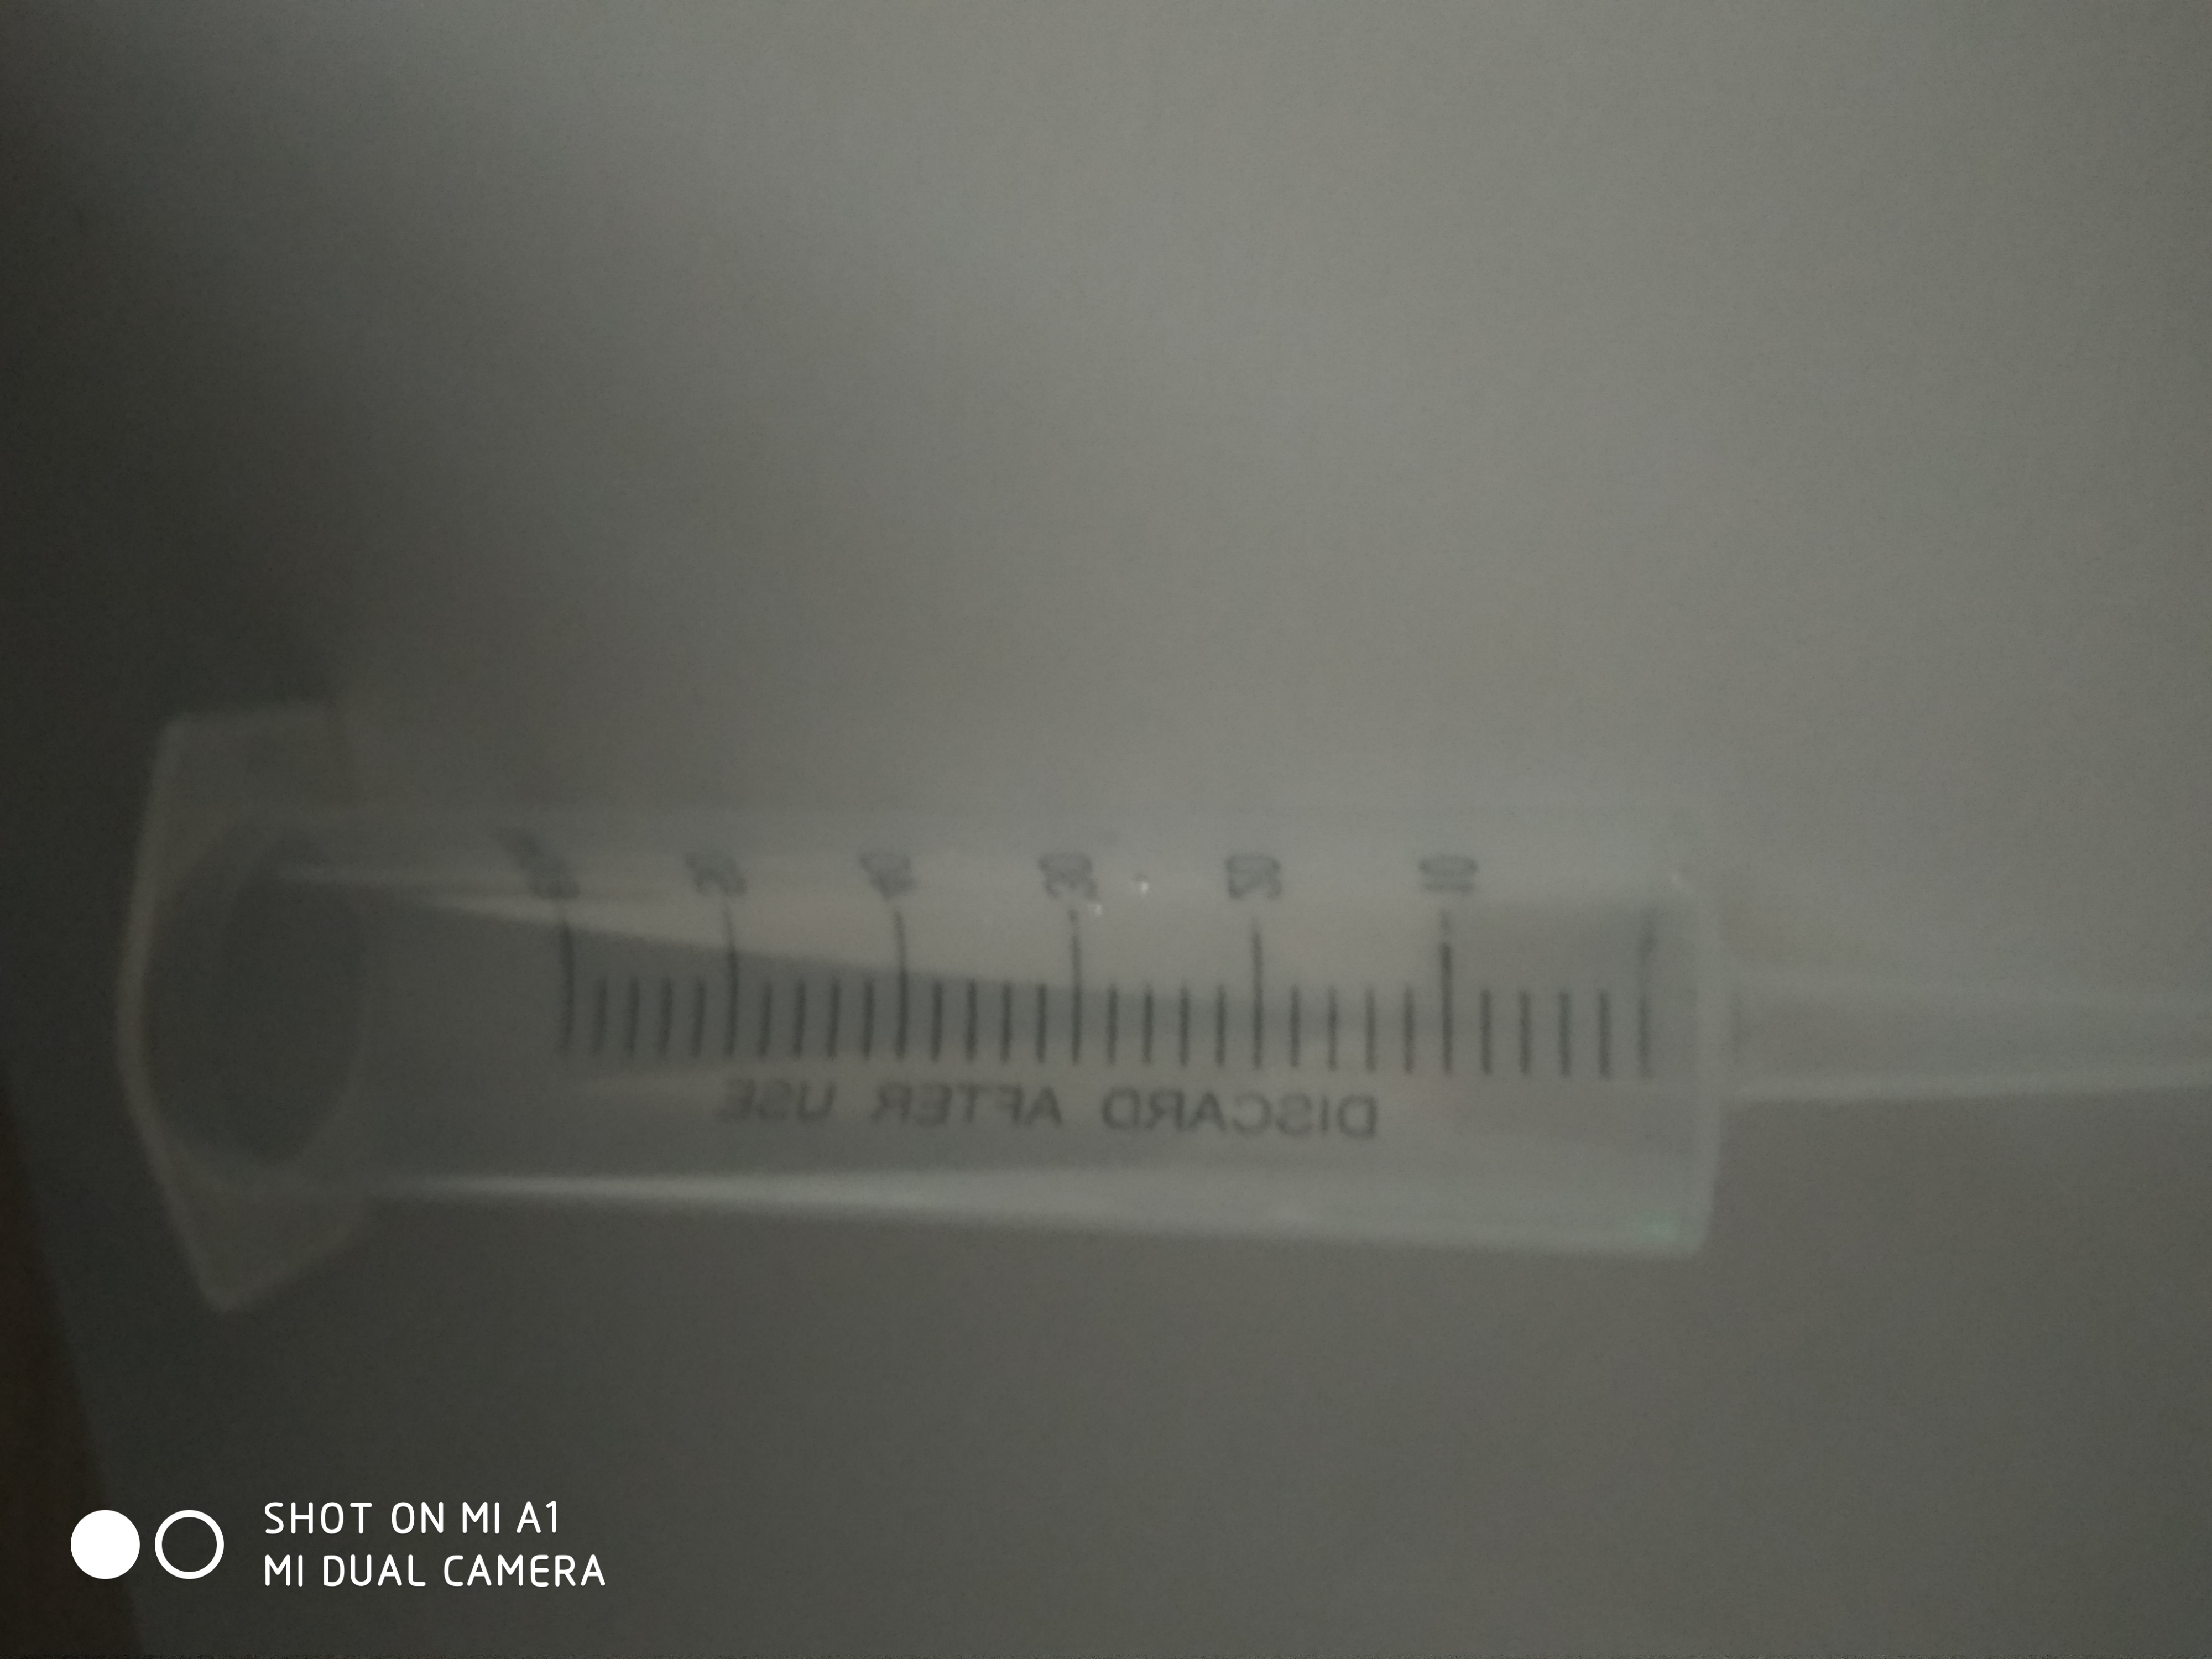syringe: (108, 697, 2210, 1326)
